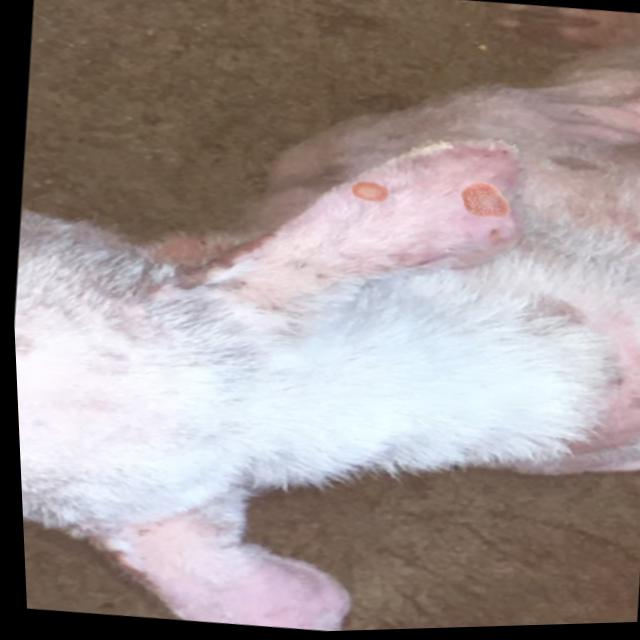ringworm: (456, 181, 510, 229), (339, 177, 397, 211)
